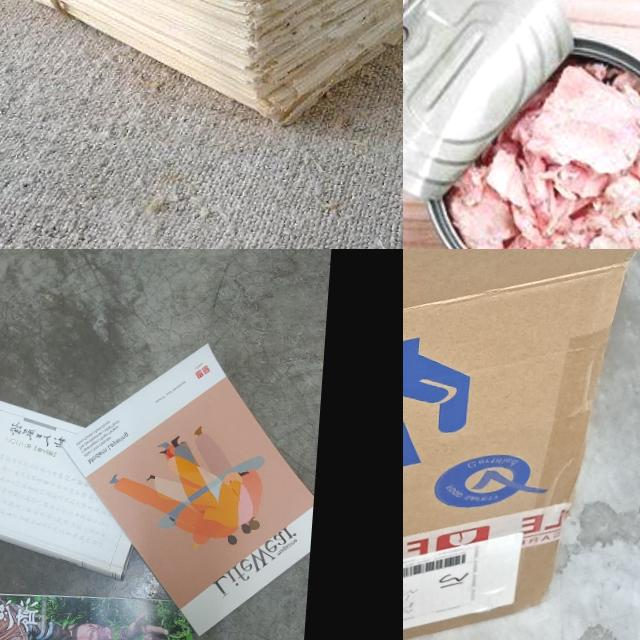lata: (403, 0, 640, 249)
papel: (61, 333, 325, 640), (0, 0, 403, 148), (0, 394, 145, 577), (0, 583, 203, 640)
papelão: (403, 249, 640, 640)
